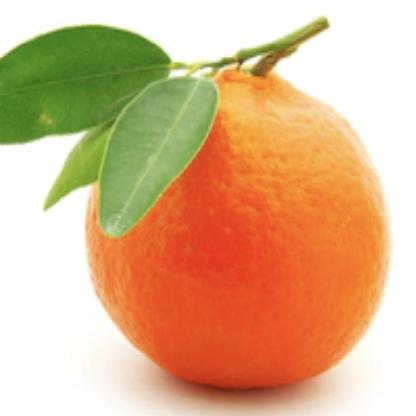fresh: (80, 50, 391, 392)
